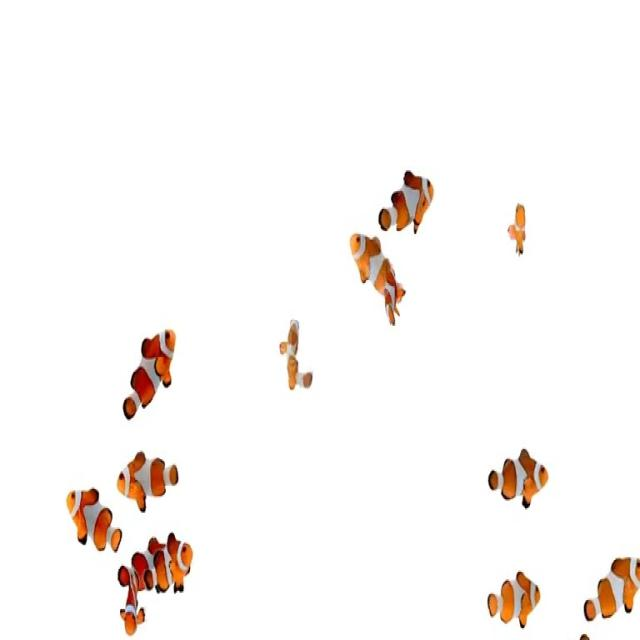fish: (116, 322, 191, 427), (482, 431, 551, 521), (58, 468, 122, 560), (352, 224, 407, 330), (111, 536, 202, 598), (579, 551, 640, 631), (379, 160, 436, 240), (114, 449, 186, 511), (482, 562, 542, 633), (147, 532, 208, 597), (278, 313, 317, 399), (505, 194, 531, 271), (122, 587, 150, 635)
